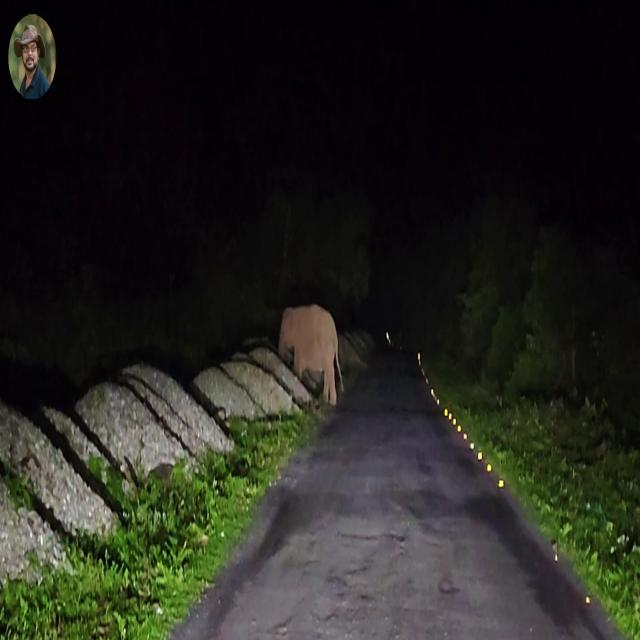Elephant: (278, 303, 344, 406)
